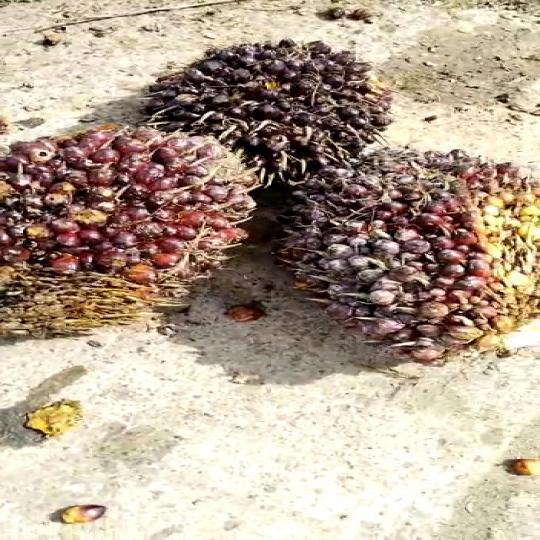kurang masak: (272, 147, 540, 371), (0, 123, 240, 346), (142, 38, 416, 187)
